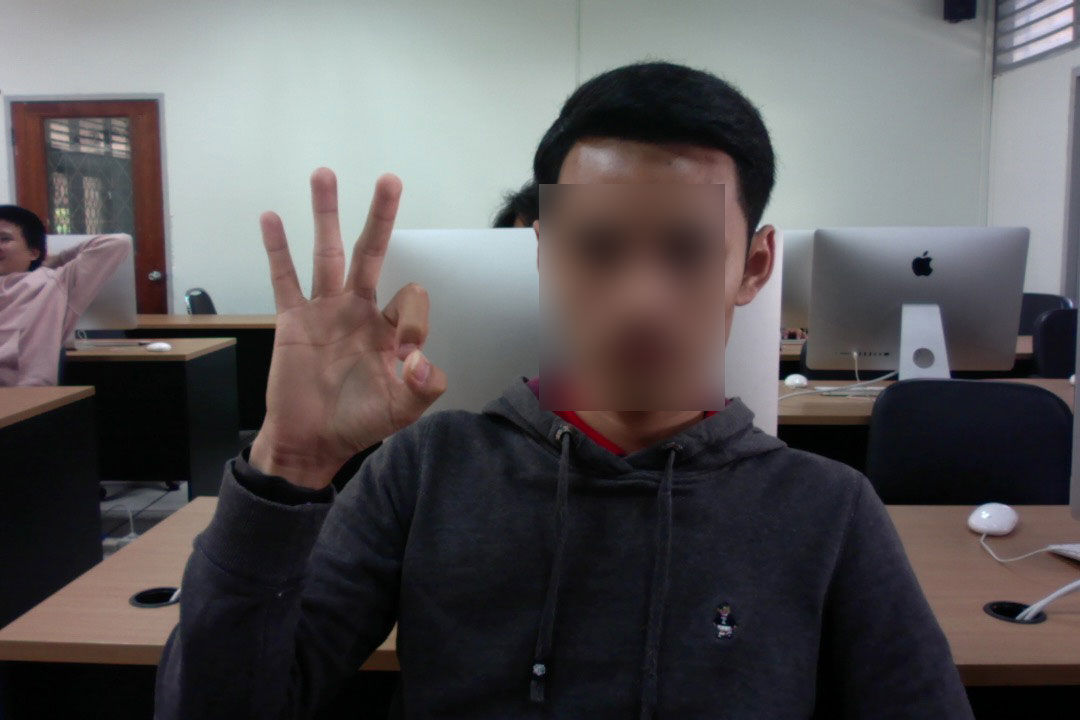for: (213, 154, 458, 491)
